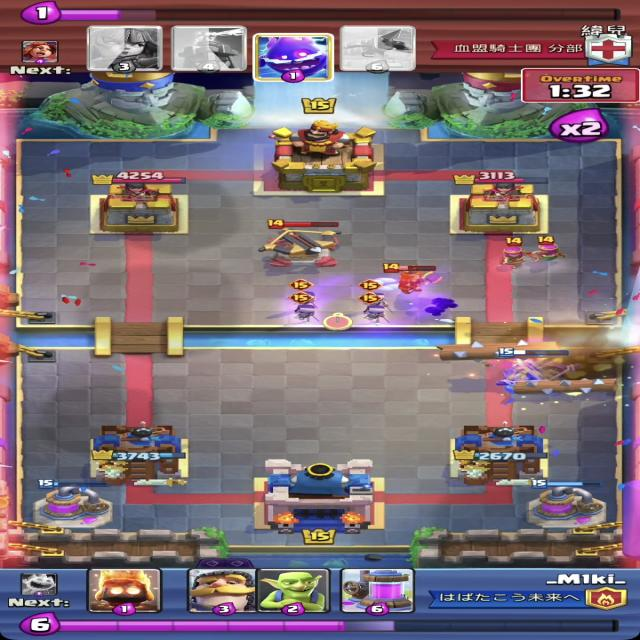Enemy-Archer: (528, 236, 568, 263), (501, 236, 531, 269)
Enemy-Log: (508, 376, 624, 398)
Enemy-Skeleton-Evo: (289, 291, 321, 326), (362, 293, 389, 327), (289, 278, 319, 305), (358, 279, 386, 305)
Enemy-Valkyrie: (381, 262, 445, 295)
Enemy-XBow: (258, 219, 344, 269)
Player-ElixirPump: (526, 478, 610, 530), (32, 480, 118, 530)
Player-XBow: (498, 347, 589, 395)
